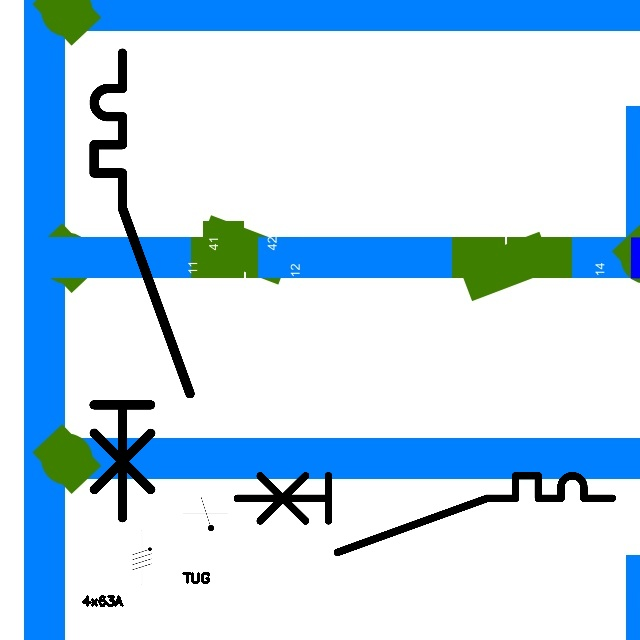interruptor_termomagnetico: (82, 41, 201, 530), (227, 466, 622, 562)
